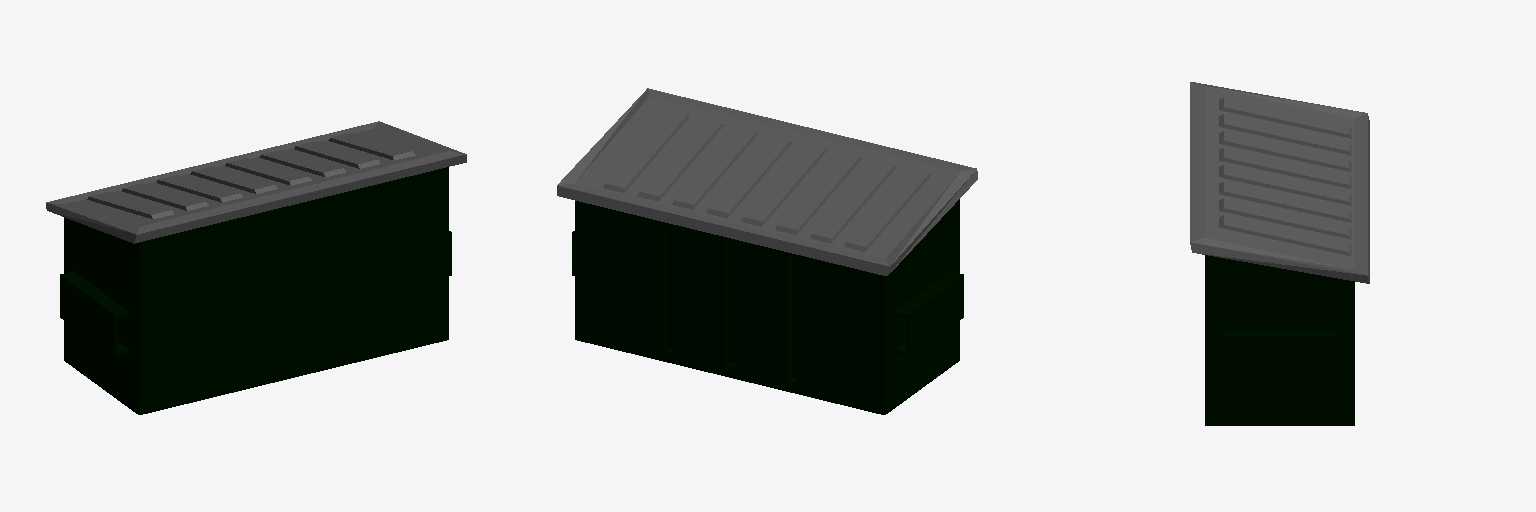
The model's file is dumpster-closed.obj.
The picture shows the model from 3 angles: view 1: azimuth 30°, elevation 25°; view 2: azimuth 150°, elevation 25°; view 3: azimuth 270°, elevation 25°; orthographic projection.
Parts seen in each view (by area): view 1: Cube.037_Cube.061, Plane.021_Plane.035, Cube.038_Cube.062; view 2: Cube.037_Cube.061, Plane.021_Plane.035, Cube.038_Cube.062; view 3: Cube.037_Cube.061, Plane.021_Plane.035, Cube.039_Cube.063.
Boxes of the visible parts, box(x1,y1,x2,y2) form: Cube.037_Cube.061: box(46, 121, 466, 414); Plane.021_Plane.035: box(87, 133, 415, 218); Cube.038_Cube.062: box(60, 271, 128, 357); Cube.037_Cube.061: box(557, 88, 977, 414); Plane.021_Plane.035: box(603, 110, 930, 251); Cube.038_Cube.062: box(895, 271, 963, 357); Cube.037_Cube.061: box(1190, 82, 1369, 425); Plane.021_Plane.035: box(1219, 97, 1351, 255); Cube.039_Cube.063: box(1225, 330, 1334, 378).
Bounding box in the file's own units: 5.82 × 3.11 × 2.7.